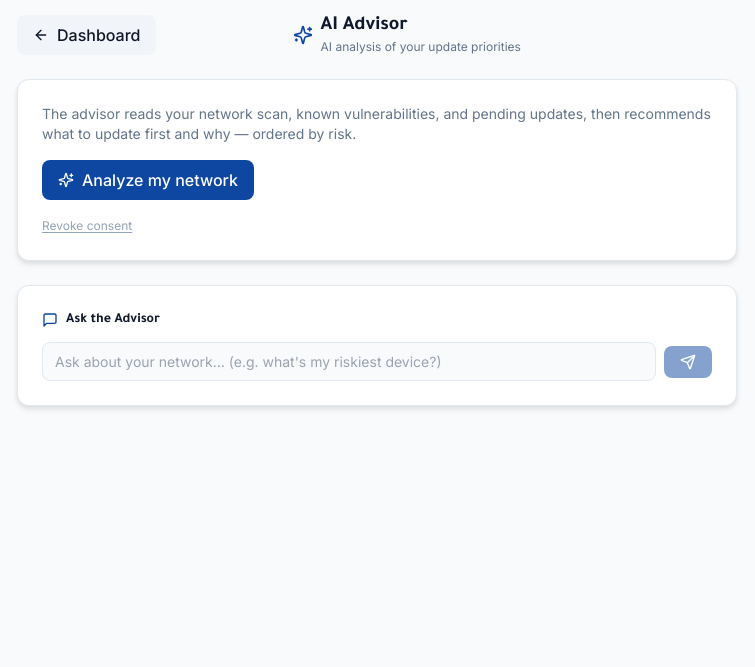
Test: AdvisorPage › C12: truncation warning renders when analyze returns truncated:true
The image size is (755, 667).
Click the button "Analyze my network" at [148, 180], box [42,160,254,200]
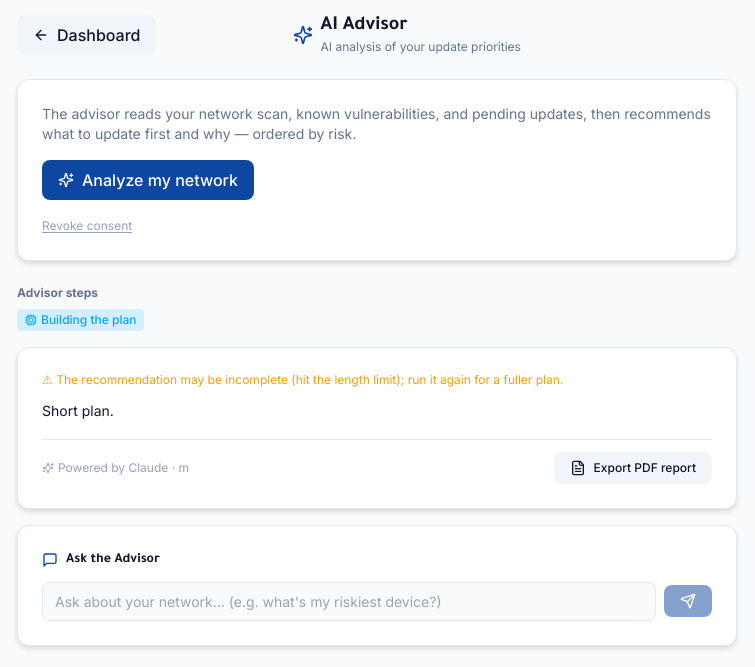
Now the text "Short plan." is shown, box [42,402,114,419]
Now the text "The recommendation may be incomplete" is shown, box [56,372,563,387]
